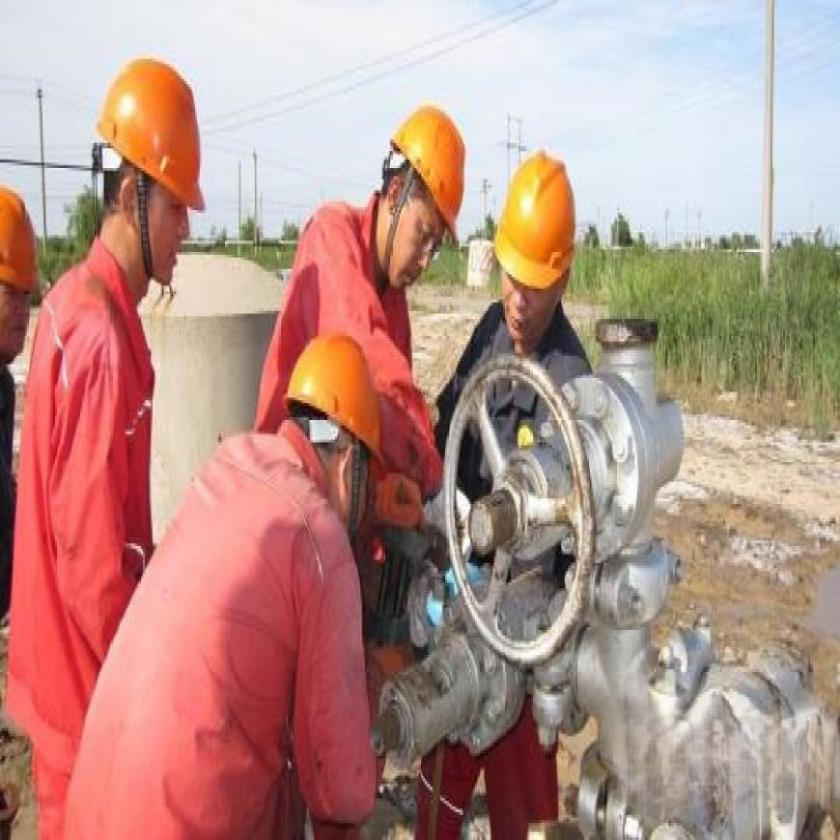Con_casco: (96, 59, 210, 309), (374, 104, 468, 293), (495, 147, 584, 344)
